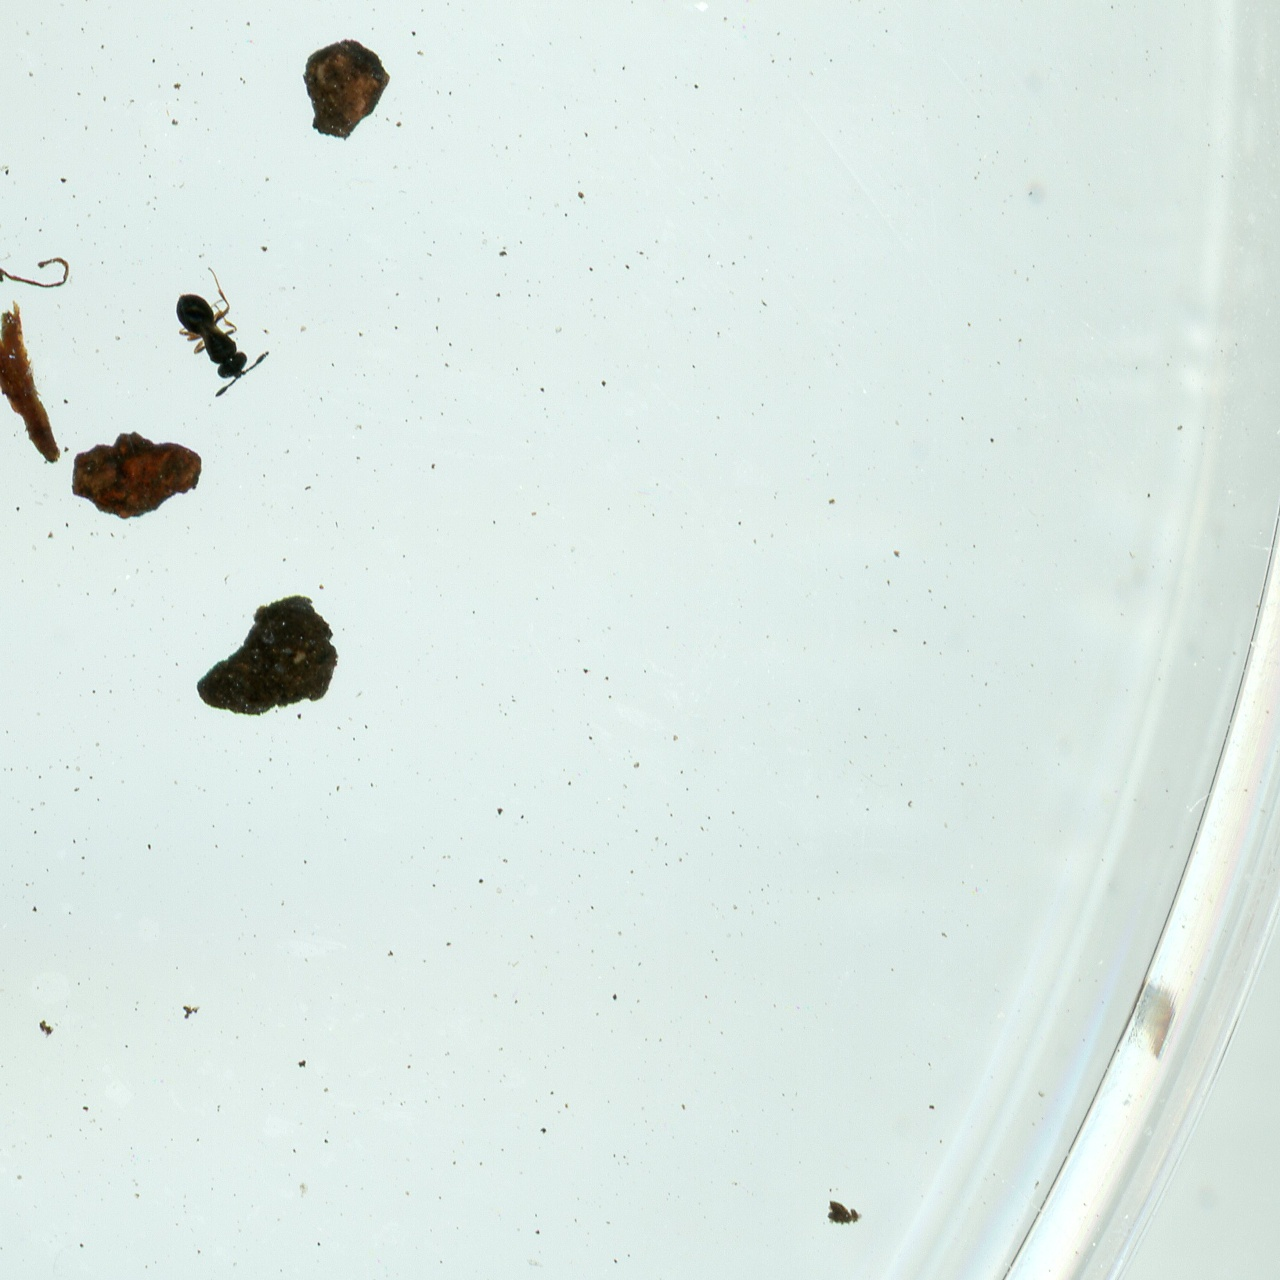arthropod: (138, 248, 298, 416)
